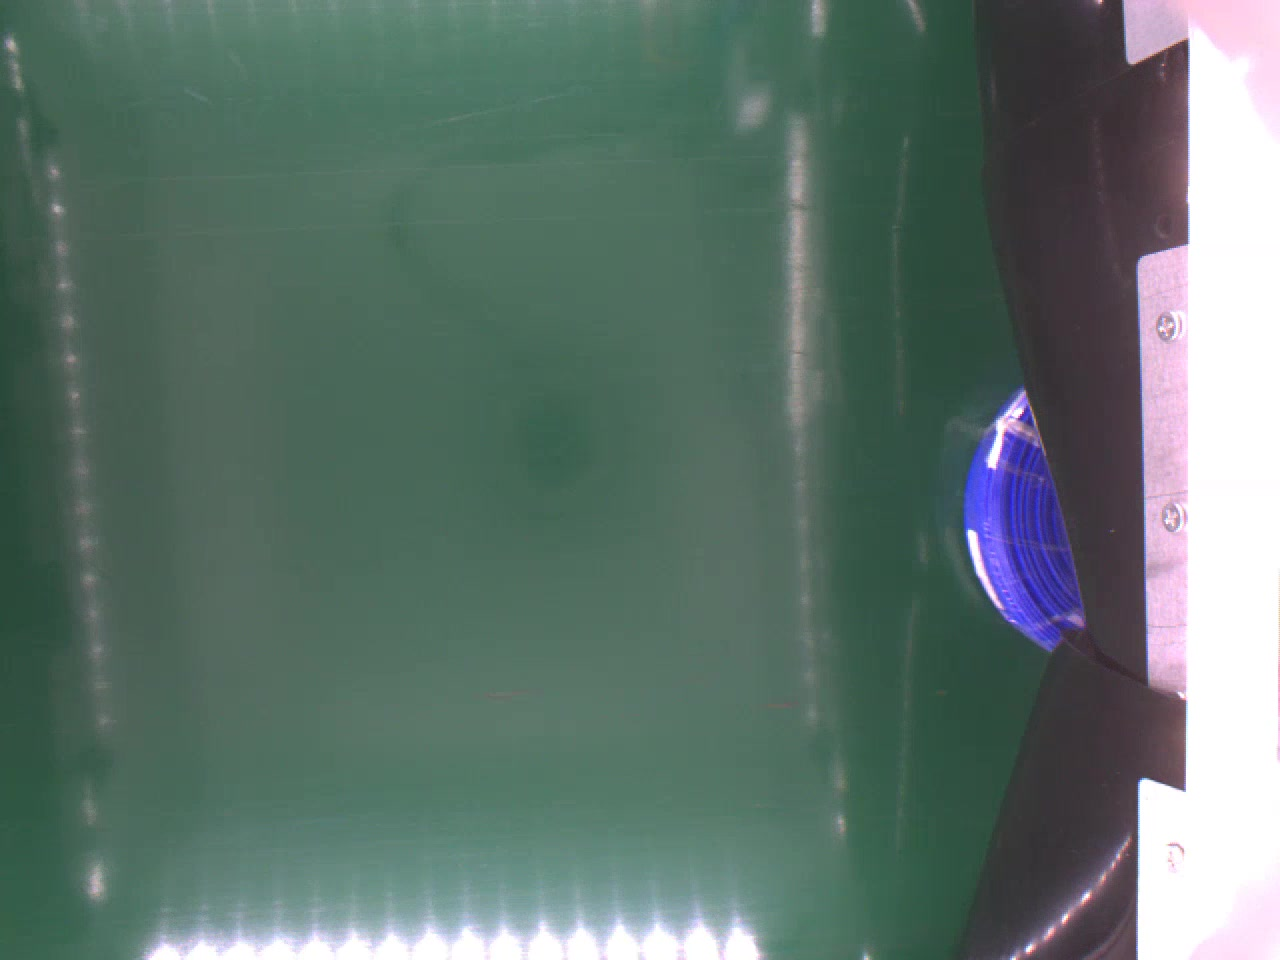blue: (959, 390, 1083, 646)
